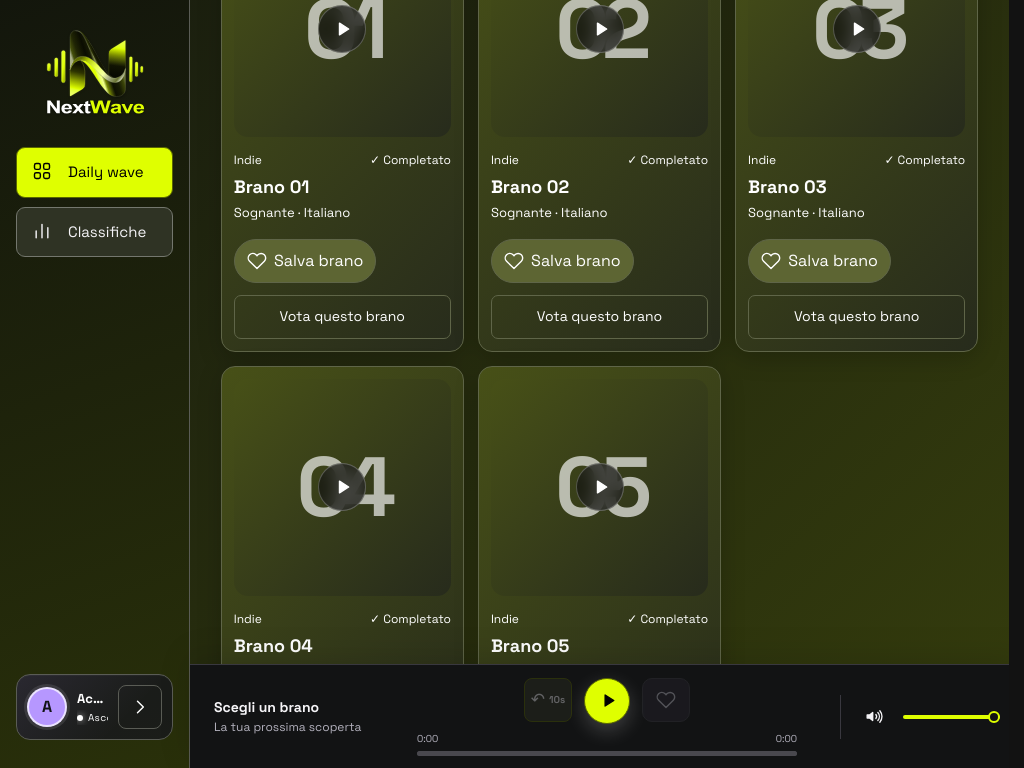
it: account cloud › un voto rifiutato dal database resta disponibile senza falsa conferma
(page scrolled)
Expected: the navigation bar named "Navigazione principale" is shown, [16, 147, 173, 257]
Click the button "Vota questo brano" below "Brano 01" at (342, 316), box [234, 294, 451, 338]
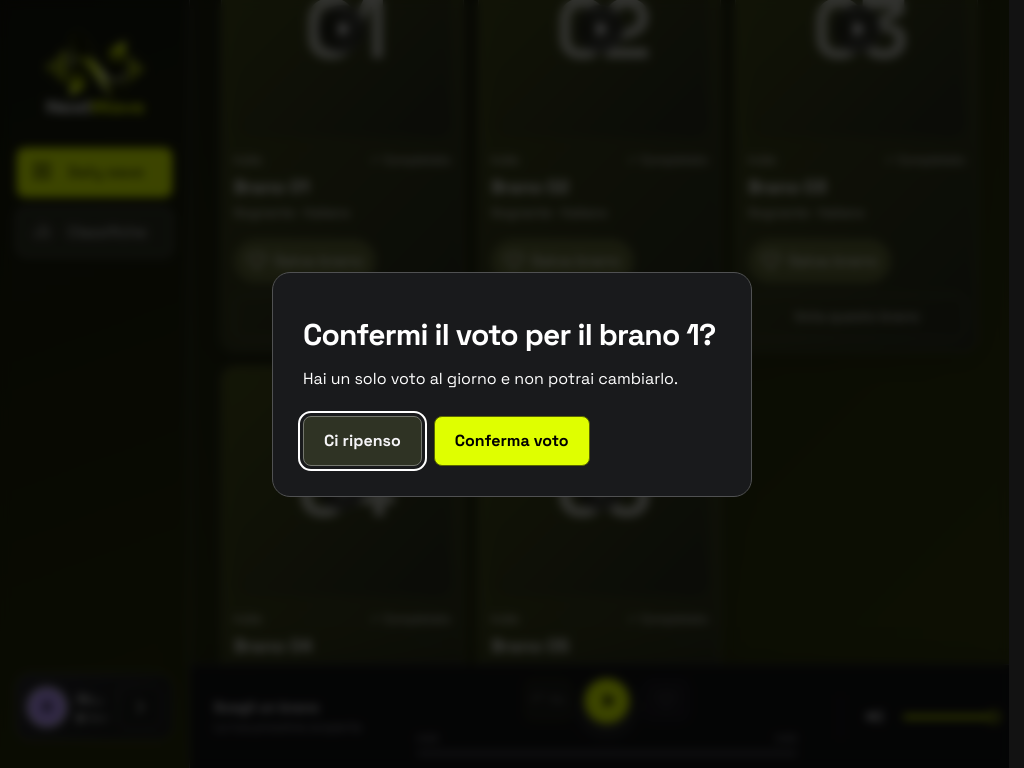
Click the button "Conferma voto" at (512, 440), box [434, 416, 590, 466]
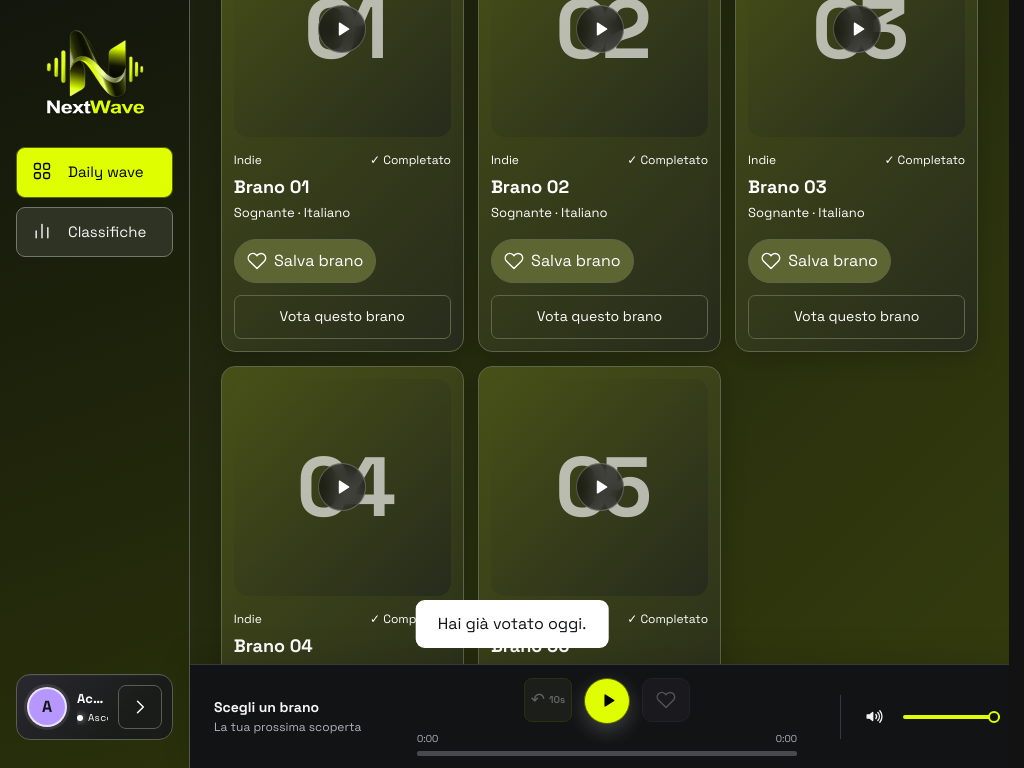
Expected: the message reads "Hai già votato oggi.", [438, 613, 586, 634]
